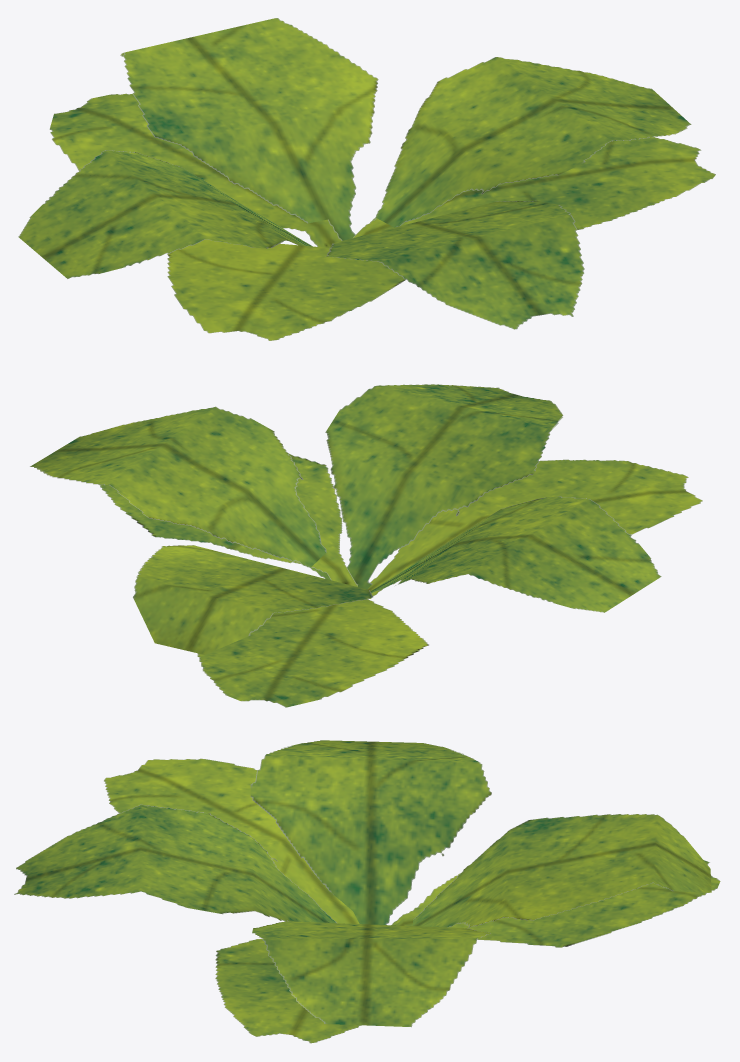
The model's file is Grass_05.fbx.
3 views of the same model, one above another, from view 1: azimuth 30°, elevation 25°; view 2: azimuth 150°, elevation 25°; view 3: azimuth 270°, elevation 25° (orthographic). The views are drawn at different scales.
Parts seen in each view (by area): view 1: Grass_05; view 2: Grass_05; view 3: Grass_05.
Boxes of the visible parts, x1=… form: Grass_05: x1=18, y1=18, x2=715, y2=340; Grass_05: x1=30, y1=384, x2=702, y2=707; Grass_05: x1=14, y1=740, x2=720, y2=1043.
Bounding box in the file's own units: 0.5121 × 0.087 × 0.5349.
